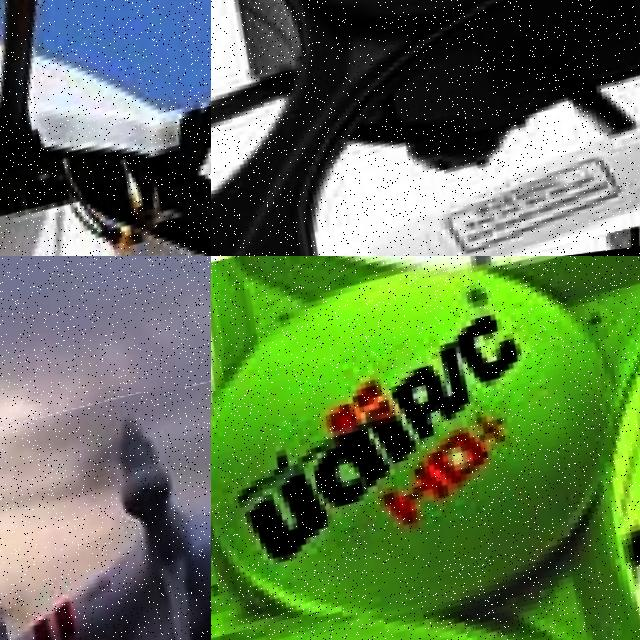drone: (211, 256, 640, 640), (211, 0, 640, 256), (0, 375, 211, 640), (0, 0, 211, 256)
